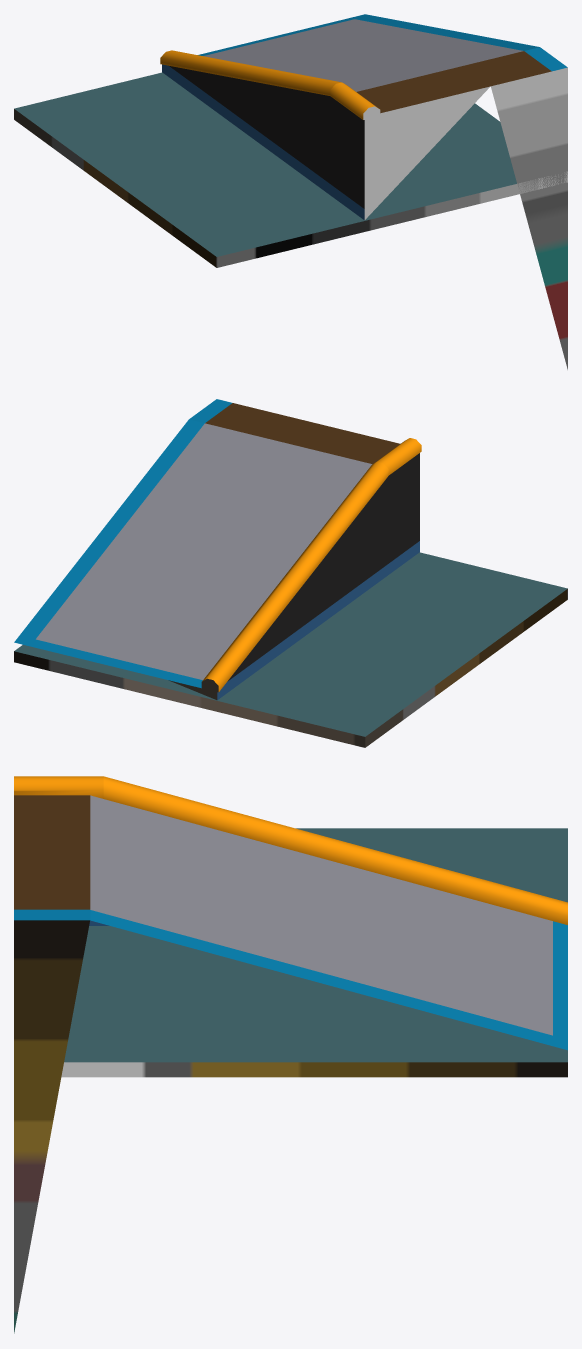
File: tile_5_0_9.gltf
3 views of the same model, one above another, from view 1: azimuth 30°, elevation 25°; view 2: azimuth 150°, elevation 25°; view 3: azimuth 270°, elevation 25° (orthographic). The views are drawn at different scales.
Visible parts, largest first — view 1: ramp.rectangular.03, ground; view 2: ramp.rectangular.03, ground; view 3: ramp.rectangular.03, ground.
Part boxes in pixels (box(x1,y1,x2,y2)): ramp.rectangular.03: box(160, 14, 567, 369); ground: box(14, 72, 567, 267); ramp.rectangular.03: box(14, 399, 421, 700); ground: box(14, 552, 567, 747); ramp.rectangular.03: box(14, 776, 567, 1333); ground: box(61, 828, 567, 1077).
Size of what is drawn, in the model's own units: 8 by 6.78 by 8.
1 material, 1 textured.
